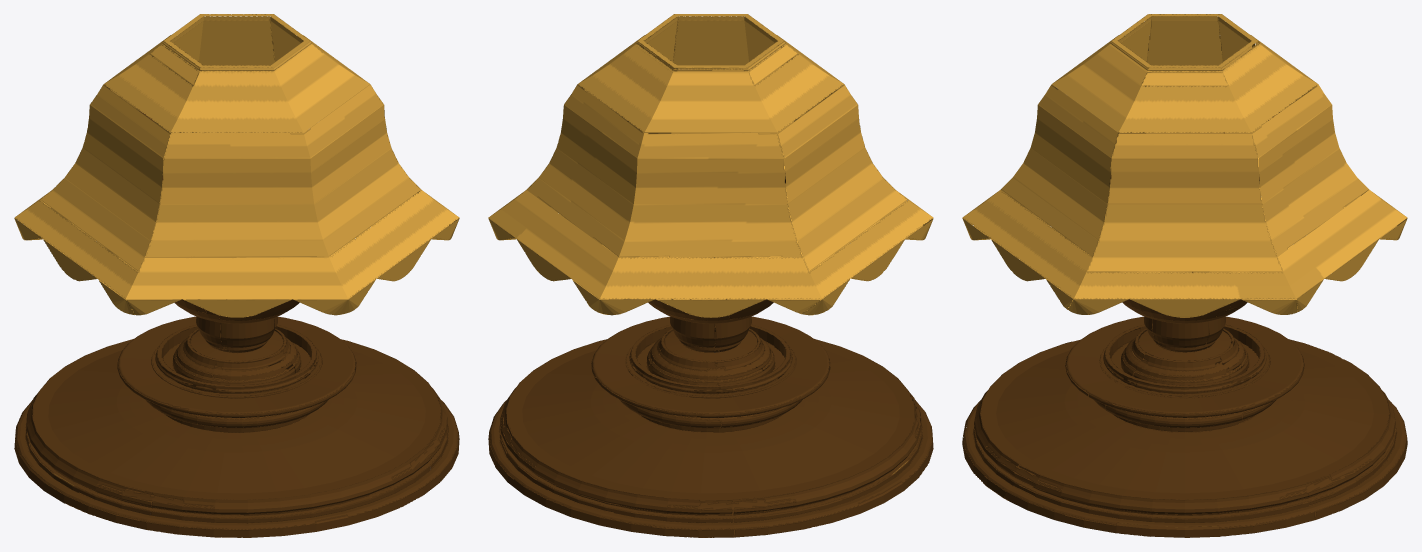
Rendered from Lamp_OBJ.fbx.
3 views of the same model, side by side, from view 1: azimuth 30°, elevation 25°; view 2: azimuth 150°, elevation 25°; view 3: azimuth 270°, elevation 25° (orthographic).
Parts seen in each view (by area): view 1: lamp; view 2: lamp; view 3: lamp.
Part boxes in pixels (x1=…): lamp: x1=14, y1=14, x2=459, y2=537; lamp: x1=488, y1=14, x2=933, y2=537; lamp: x1=962, y1=14, x2=1407, y2=537.
Size of the model in its own units: 200 by 200 by 200.
